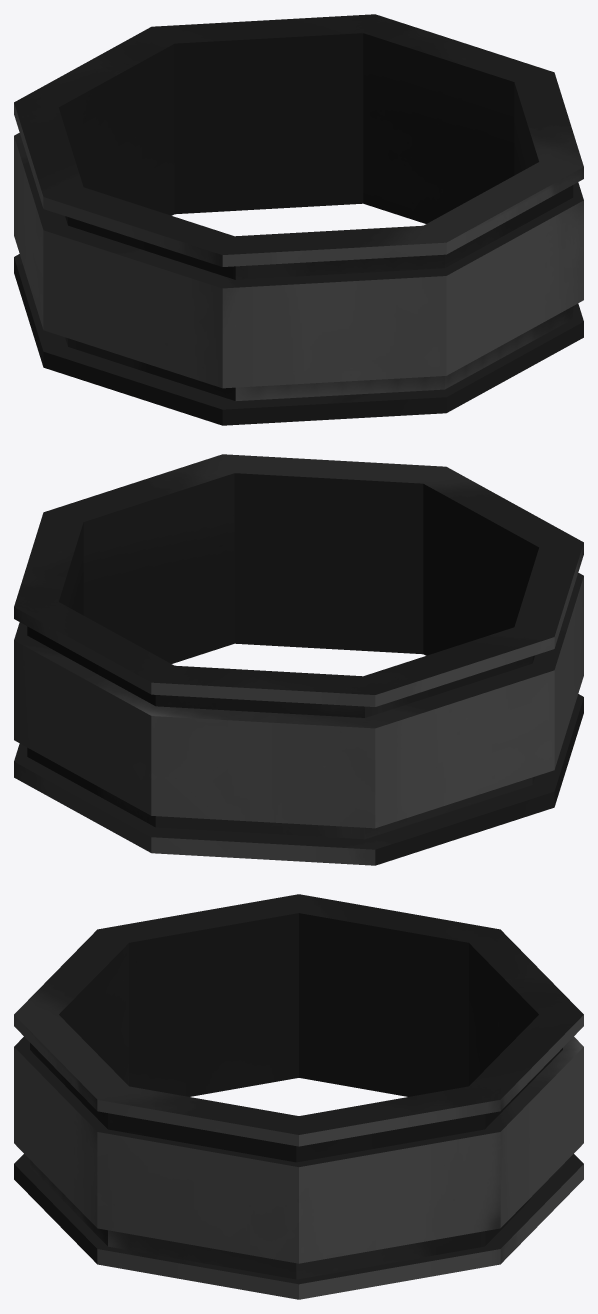
File: well.fbx
3 views of the same model, one above another, from view 1: azimuth 30°, elevation 25°; view 2: azimuth 150°, elevation 25°; view 3: azimuth 270°, elevation 25° (orthographic). The views are drawn at different scales.
Visible parts, largest first — view 1: pCylinder4; view 2: pCylinder4; view 3: pCylinder4.
Part boxes in pixels (x1=…): pCylinder4: x1=14, y1=14, x2=583, y2=425; pCylinder4: x1=14, y1=454, x2=583, y2=865; pCylinder4: x1=14, y1=894, x2=583, y2=1299.
Size of the model in its own units: 5.37 by 1.71 by 5.37.
Materials: 1 (1 with a texture image).
